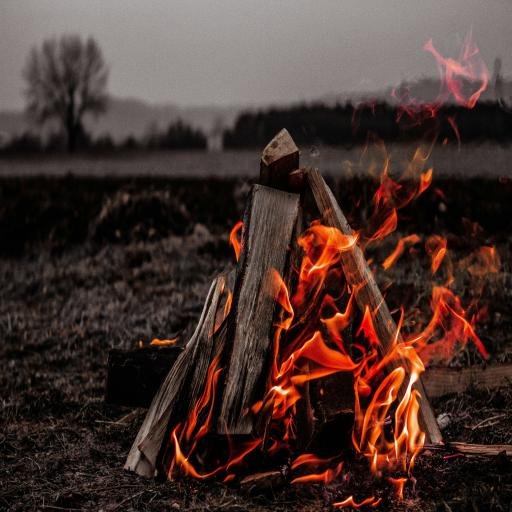campfire: (135, 82, 500, 512)
